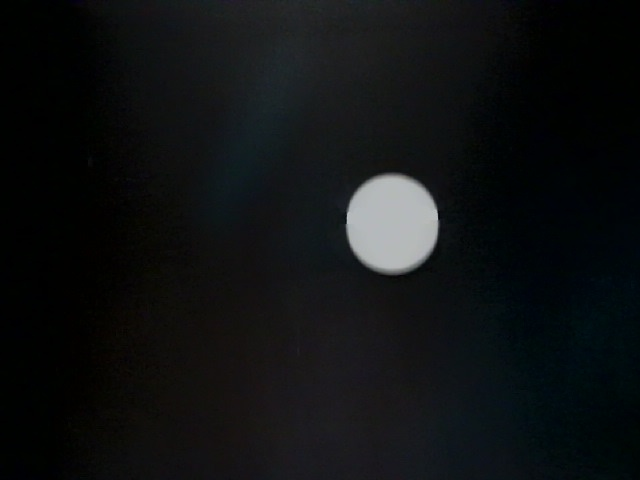CYLJ: (166, 1, 532, 173)
